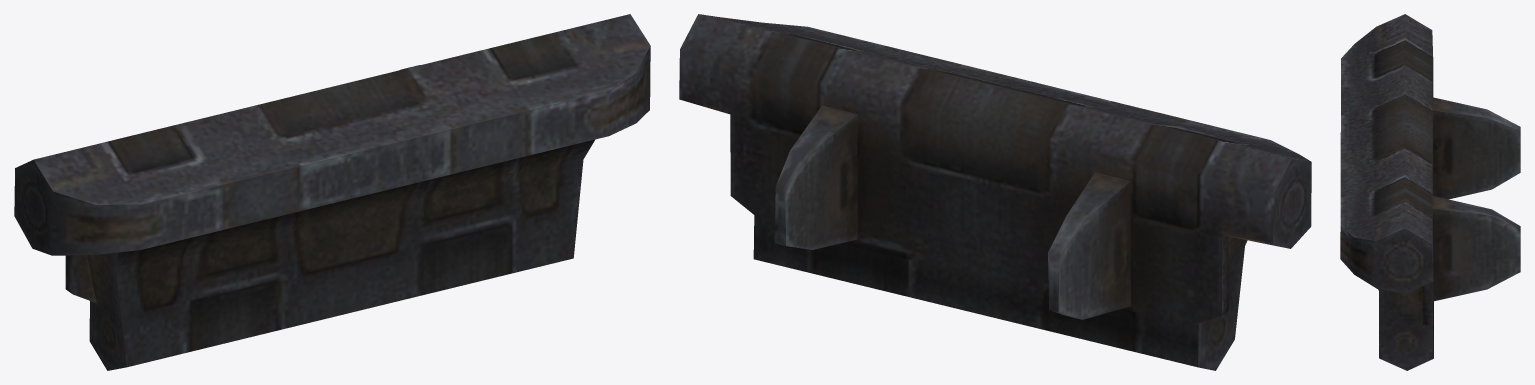
3 views of the same model, side by side, from view 1: azimuth 30°, elevation 25°; view 2: azimuth 150°, elevation 25°; view 3: azimuth 270°, elevation 25° (orthographic). The views are drawn at different scales.
Visible parts, largest first — view 1: set_0_group_0; view 2: set_0_group_0; view 3: set_0_group_0.
Boxes of the visible parts, x1,y1,x2,y2 form: set_0_group_0: (14, 14, 650, 370); set_0_group_0: (679, 14, 1311, 370); set_0_group_0: (1340, 14, 1520, 370).
Bounding box in the file's own units: 0.5224 × 0.1927 × 0.1854.
1 material, 1 textured.
